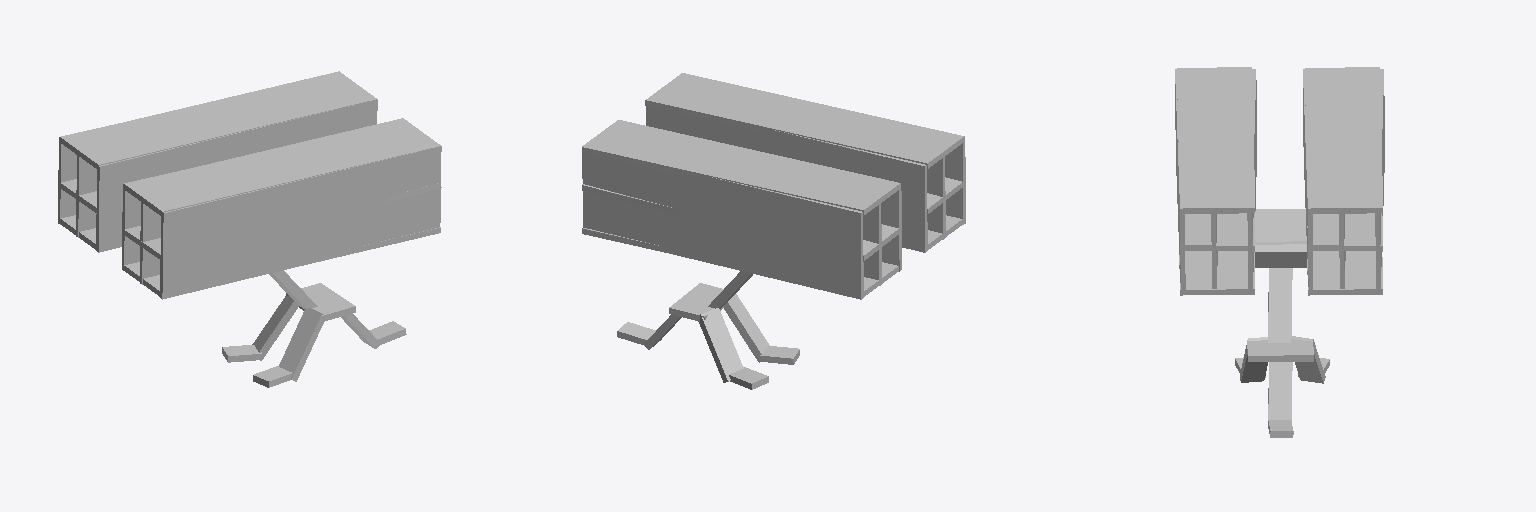
File: missile launcher (2).obj
The picture shows the model from 3 angles: view 1: azimuth 30°, elevation 25°; view 2: azimuth 150°, elevation 25°; view 3: azimuth 270°, elevation 25°; orthographic projection.
Visible parts, largest first — view 1: Cube.016_Cube.018, Cube.018_Cube.020, Cube.019_Cube.021, Cube.021_Cube.023, Cube_Cube.001, Cube.014_Cube.015, Cube.023_Cube.025, Cube.006_Cube.007, Cube.017_Cube.019, Cube.020_Cube.022, Cube.011_Cube.012, Cube.003_Cube.004 (+4 smaller); view 2: Cube.020_Cube.022, Cube.018_Cube.020, Cube.019_Cube.021, Cube.017_Cube.019, Cube.003_Cube.004, Cube_Cube.001, Cube.021_Cube.023, Cube.016_Cube.018, Cube.006_Cube.007, Cube.022_Cube.024, Cube.023_Cube.025, Cube.014_Cube.015 (+5 smaller); view 3: Cube.018_Cube.020, Cube.019_Cube.021, Cube.024_Cube.026, Cube.011_Cube.012, Cube.015_Cube.016, Cube.022_Cube.024, Cube.012_Cube.013, Cube.010_Cube.011, Cube.004_Cube.005, Cube.006_Cube.007, Cube.009_Cube.010, Cube.017_Cube.019 (+5 smaller).
Part boxes in pixels (x1,y1,x2,y2): Cube.016_Cube.018: (160, 146, 441, 299); Cube.018_Cube.020: (124, 118, 440, 216); Cube.019_Cube.021: (60, 71, 376, 170); Cube.021_Cube.023: (96, 99, 377, 252); Cube_Cube.001: (279, 308, 323, 381); Cube.014_Cube.015: (140, 202, 160, 284); Cube.023_Cube.025: (76, 155, 96, 237); Cube.006_Cube.007: (286, 283, 355, 321); Cube.017_Cube.019: (122, 172, 172, 270); Cube.020_Cube.022: (58, 125, 109, 224); Cube.011_Cube.012: (124, 227, 440, 296); Cube.003_Cube.004: (252, 296, 298, 360); Cube.020_Cube.022: (582, 153, 863, 299); Cube.018_Cube.020: (645, 73, 964, 168); Cube.019_Cube.021: (582, 120, 900, 215); Cube.017_Cube.019: (646, 106, 927, 252); Cube.003_Cube.004: (698, 308, 743, 382); Cube_Cube.001: (724, 294, 769, 362); Cube.021_Cube.023: (881, 189, 901, 271); Cube.016_Cube.018: (945, 142, 965, 224); Cube.006_Cube.007: (669, 283, 723, 321); Cube.022_Cube.024: (582, 184, 898, 261); Cube.023_Cube.025: (863, 204, 881, 285); Cube.014_Cube.015: (927, 157, 945, 239); Cube.018_Cube.020: (1177, 67, 1254, 213); Cube.019_Cube.021: (1305, 67, 1382, 213); Cube.024_Cube.026: (1307, 251, 1382, 295); Cube.011_Cube.012: (1179, 251, 1254, 295); Cube.015_Cube.016: (1179, 213, 1254, 251); Cube.022_Cube.024: (1307, 213, 1382, 251); Cube.012_Cube.013: (1268, 268, 1292, 342); Cube.010_Cube.011: (1255, 209, 1306, 241); Cube.004_Cube.005: (1268, 362, 1292, 420); Cube.006_Cube.007: (1247, 339, 1313, 361); Cube.009_Cube.010: (1255, 244, 1306, 267); Cube.017_Cube.019: (1247, 69, 1256, 288).
Size of the model in its own units: 12.79 by 9.88 by 7.98.